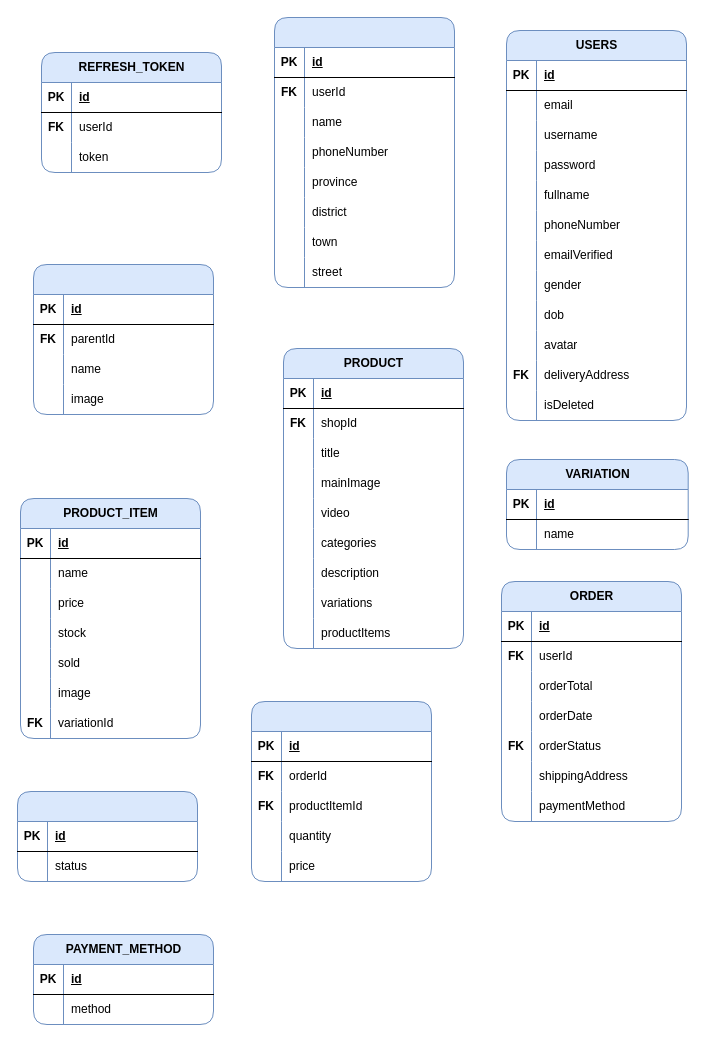
Image size: 706x1042. Some labels were removed from this diagram. Here are the shapes that lost their labels. From the top down, the box of each, then its label:
(274, 16, 454, 288): ADDRESS
(32, 264, 214, 414): CATEGORY
(250, 700, 432, 882): ORDER_ITEM
(16, 790, 198, 882): ORDER_STATUS
